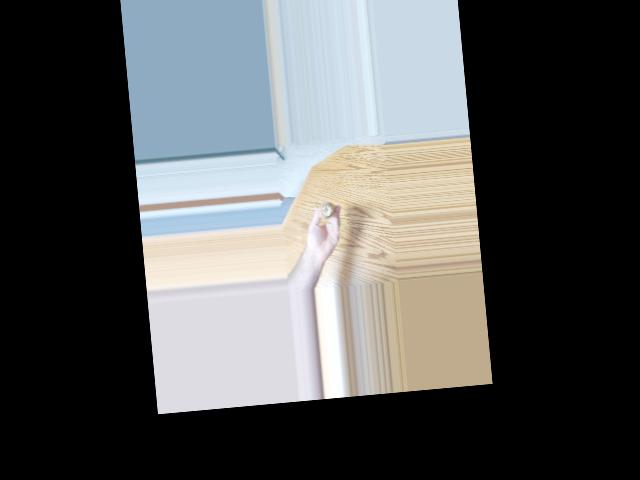sweet_potato: (314, 197, 333, 220)
